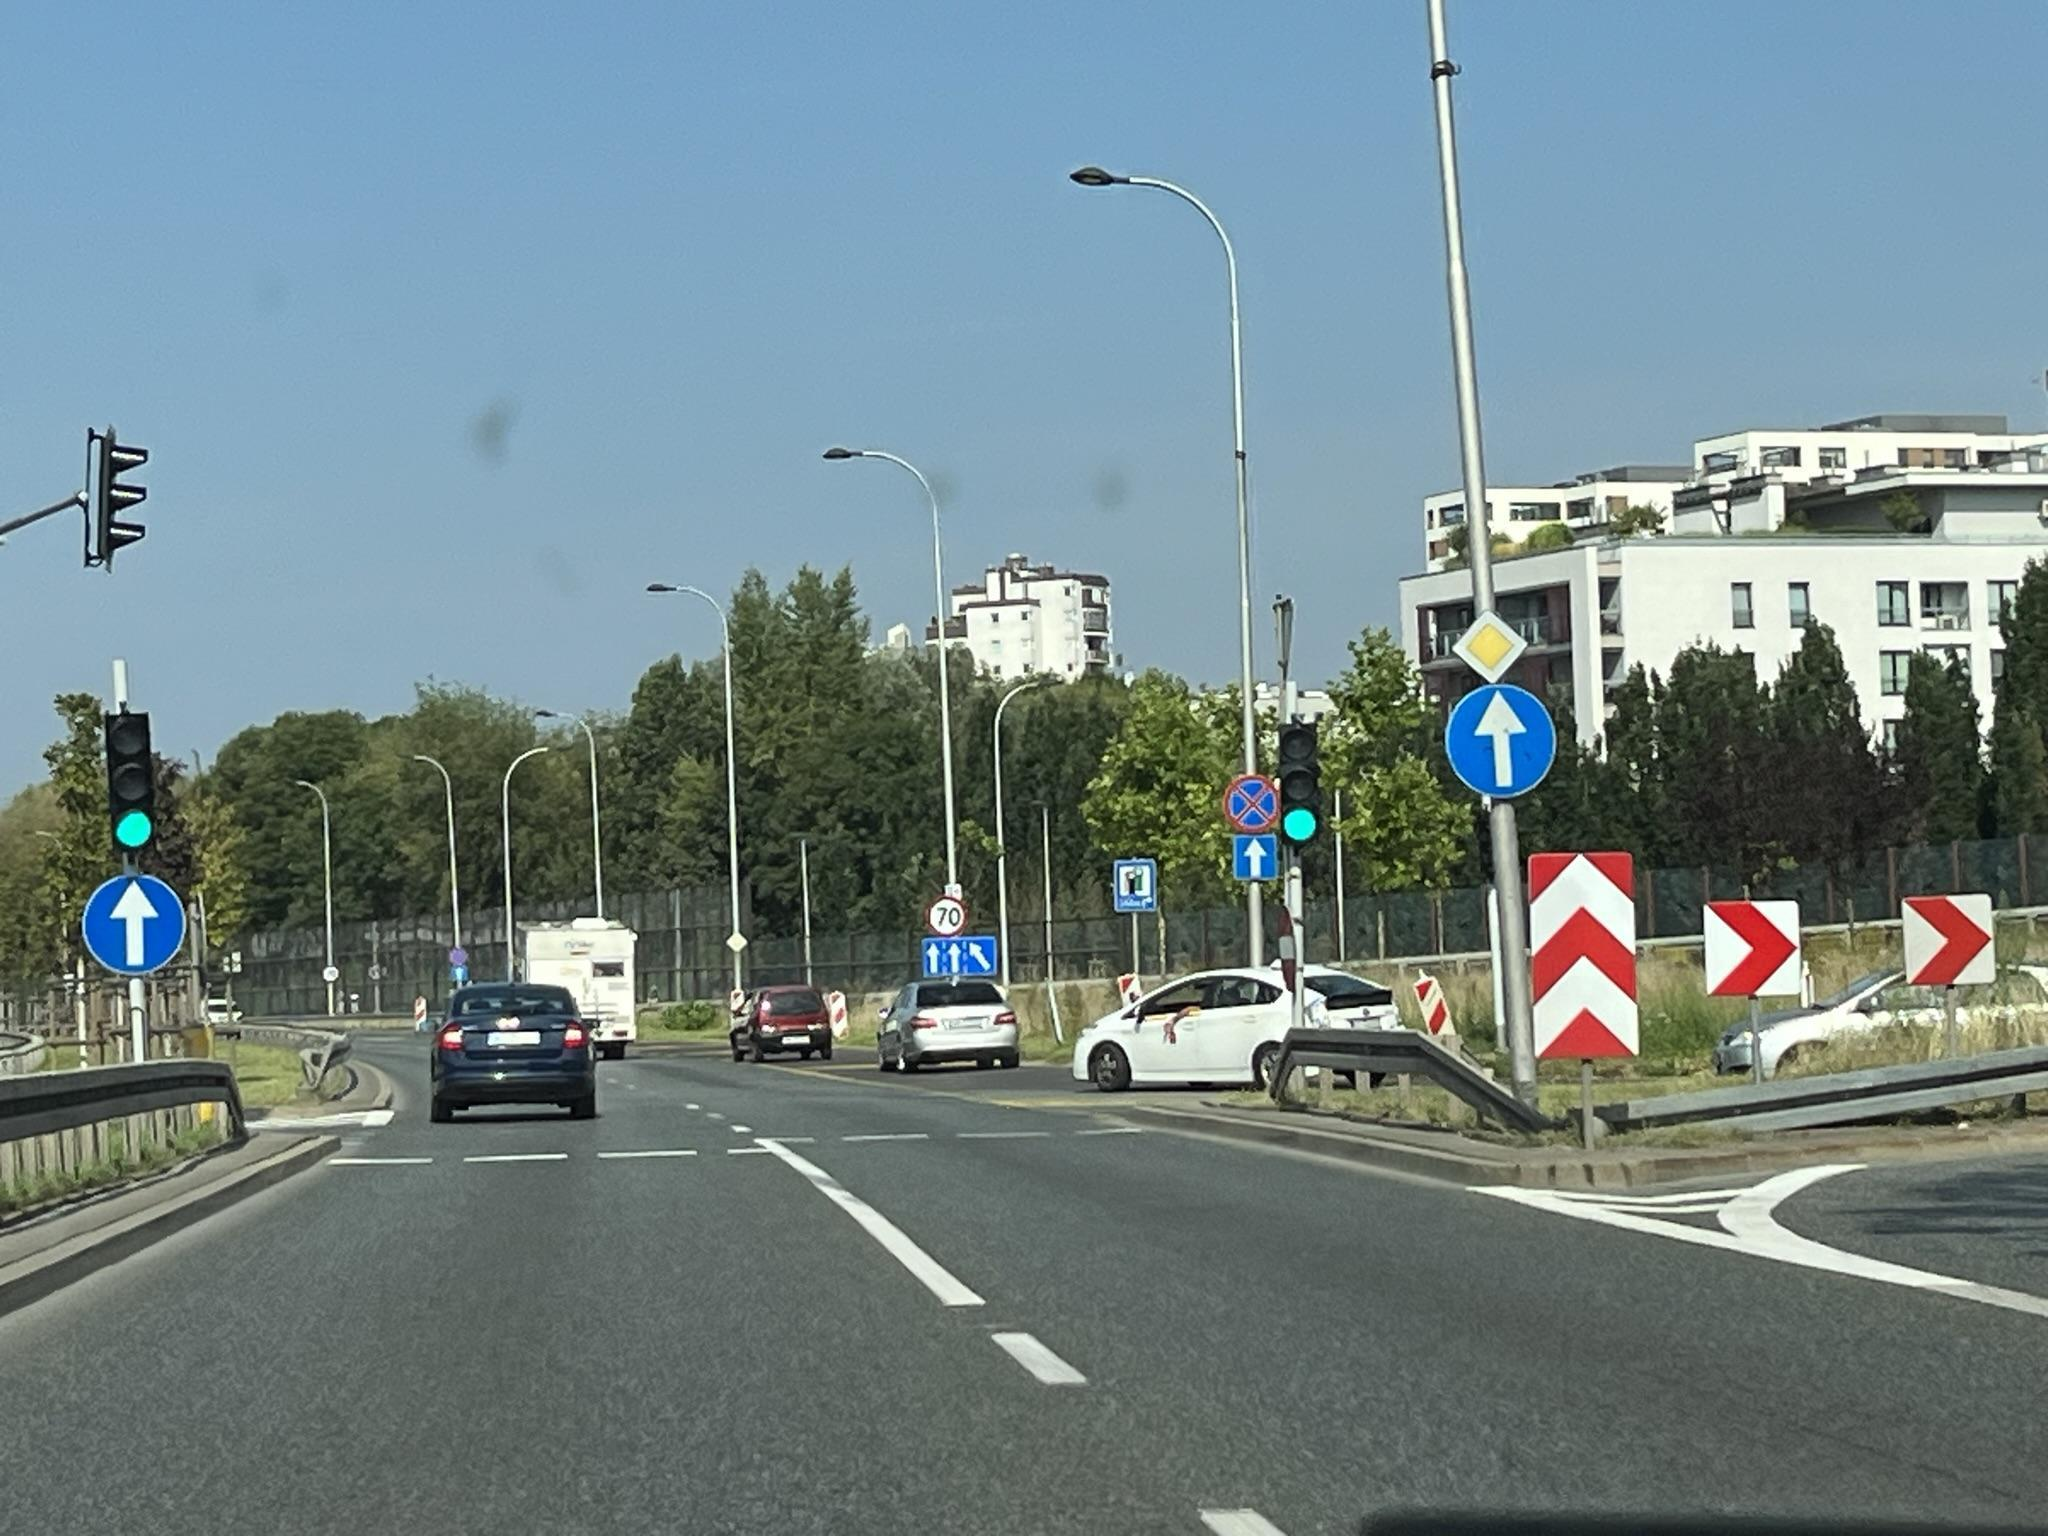information: (1451, 607, 1527, 685), (1115, 860, 1156, 911), (1234, 836, 1277, 880)
mandatory: (1442, 684, 1557, 799), (80, 873, 188, 978)
other: (922, 938, 998, 975)
prohibitory: (1223, 773, 1280, 833), (926, 895, 968, 937)
